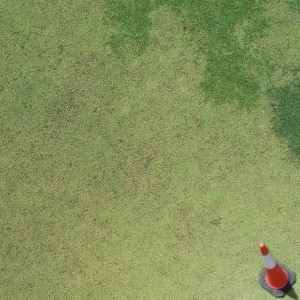traffic cone: (258, 241, 296, 298)
